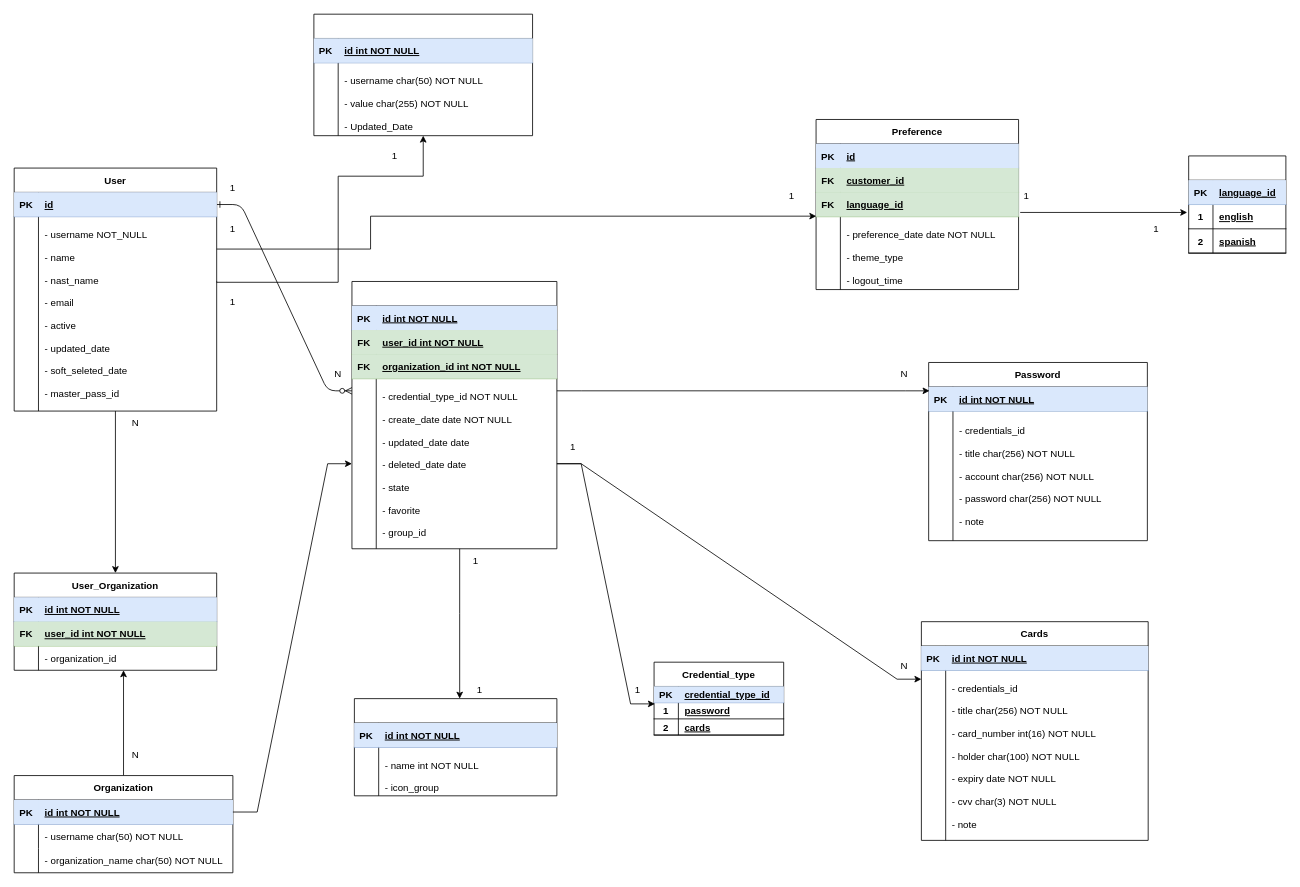
Some shapes in this 1300 by 887 pixel diagram are drawn without their labels. Each missing label, with the box of its shape:
Credentials: (351, 281, 557, 549)
Groups: (354, 698, 557, 796)
Languages: (1188, 155, 1286, 253)
Master_Pass: (313, 13, 533, 136)
